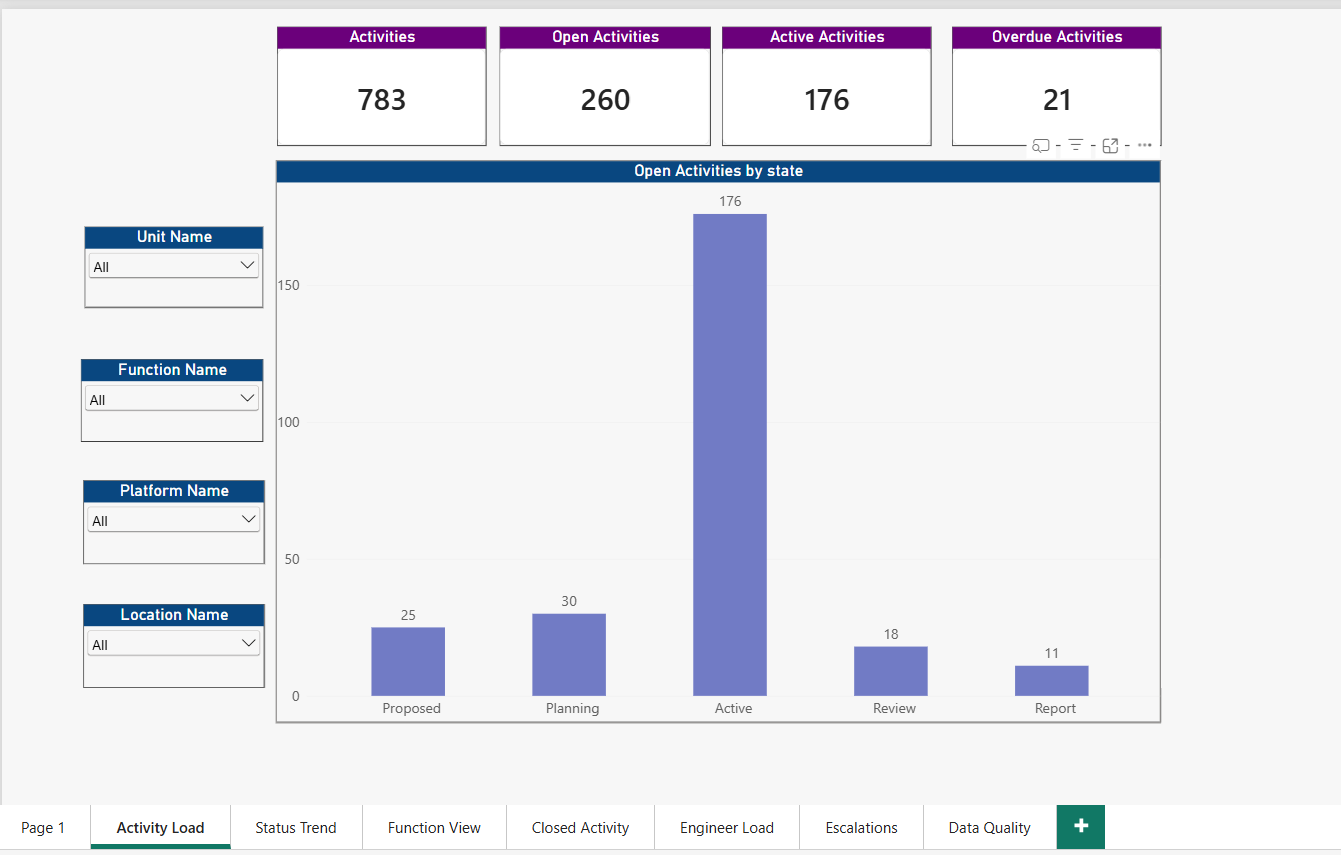

What the dashboard file says about the page in this screenshot:
{"tool":"powerbi","page":{"name":"Activity Load","canvas":[1920,1080],"ordinal":1},"visuals":[{"type":"cardVisual","title":"Active Activities","fields":{"Data":["_Measures.Active Activities"]},"box":[959.8,24,279.3,159.6],"z":0},{"type":"cardVisual","title":"Activities","fields":{"Data":["_Measures.Activities"]},"box":[366.1,24,279.3,159.6],"z":1},{"type":"cardVisual","title":"Open Activities","fields":{"Data":["_Measures.Open Activities"]},"box":[664.1,24,281.6,159.6],"z":2},{"type":"cardVisual","title":"Overdue Activities","fields":{"Data":["_Measures.Overdue Activities"]},"box":[1267.2,24,279.3,159.6],"z":3},{"type":"clusteredColumnChart","fields":{"Category":["dim_state.state"],"Y":["_Measures.Open Activities"]},"box":[365.2,201.8,1180.1,749.5],"z":4},{"type":"slicer","title":"Unit Name","fields":{"Values":["dim_unit.unit_name"]},"box":[110,290,238.3,108.3],"z":5},{"type":"slicer","title":"Function Name","fields":{"Values":["dim_function.function_name"]},"box":[105,466.7,243.3,110],"z":6},{"type":"slicer","title":"Platform Name","fields":{"Values":["dim_platform.platform_name"]},"box":[108.3,628.3,241.7,111.7],"z":7},{"type":"slicer","title":"Location Name","fields":{"Values":["dim_location.location_name"]},"box":[108.3,793.3,241.7,111.7],"z":8}]}

Visuals, with their boxes on the page's 1920x1080 design canvas (x1, y1, x2, y2). These are canvas units, not pixel positions in the 1341x855 screenshot, which may show the page scaled, cropped or inside an application window:
"Active Activities" cardVisual: region(960, 24, 1239, 184)
"Activities" cardVisual: region(366, 24, 645, 184)
"Open Activities" cardVisual: region(664, 24, 946, 184)
"Overdue Activities" cardVisual: region(1267, 24, 1546, 184)
clusteredColumnChart - dim_state.state x _Measures.Open Activities: region(365, 202, 1545, 951)
"Unit Name" slicer: region(110, 290, 348, 398)
"Function Name" slicer: region(105, 467, 348, 577)
"Platform Name" slicer: region(108, 628, 350, 740)
"Location Name" slicer: region(108, 793, 350, 905)
